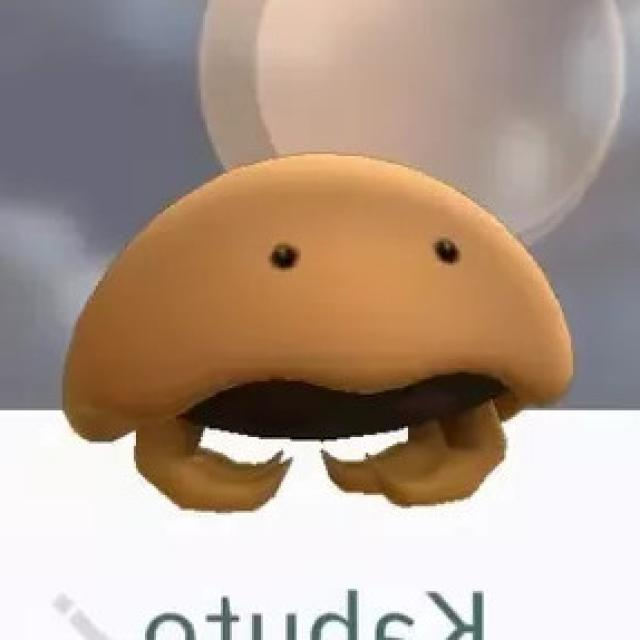Kabuto: (53, 154, 580, 519)
